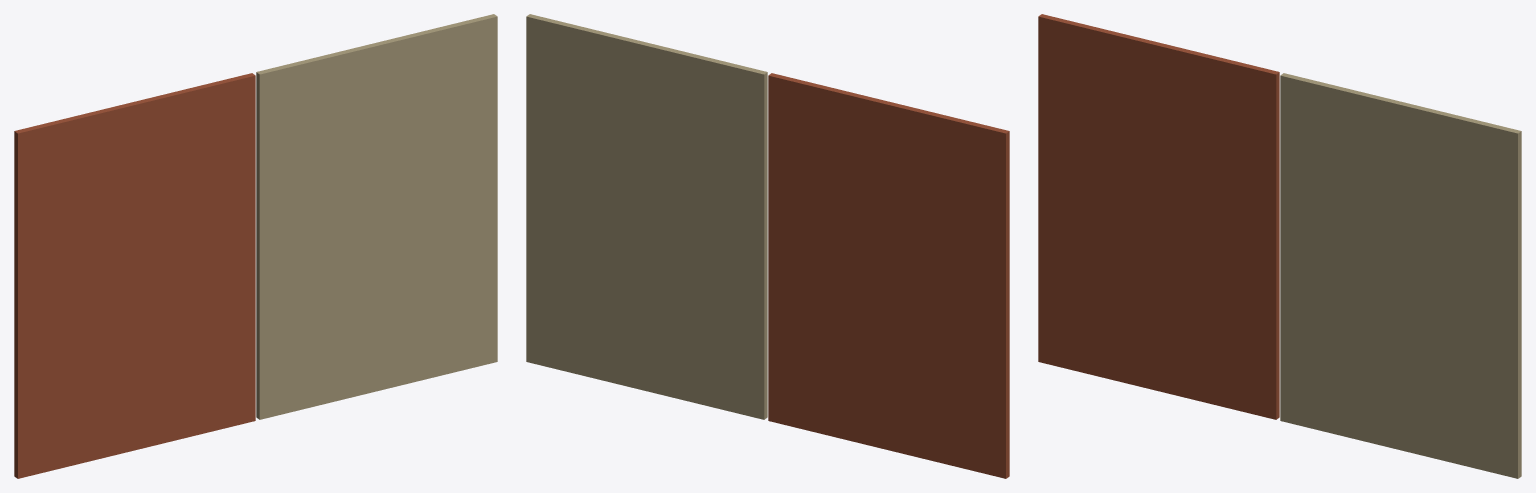
File: hold100_door.obj
3 views of the same model, side by side, from view 1: azimuth 30°, elevation 25°; view 2: azimuth 150°, elevation 25°; view 3: azimuth 330°, elevation 25° (orthographic).
Parts seen in each view (by area): view 1: hold100_door; view 2: hold100_door; view 3: hold100_door.
Part boxes in pixels (left/top/right/bottom): hold100_door: left=14, top=14, right=497, bottom=478; hold100_door: left=526, top=14, right=1009, bottom=478; hold100_door: left=1038, top=14, right=1521, bottom=478.
Size of the model in its own units: 4.75 by 3.27 by 0.06.
